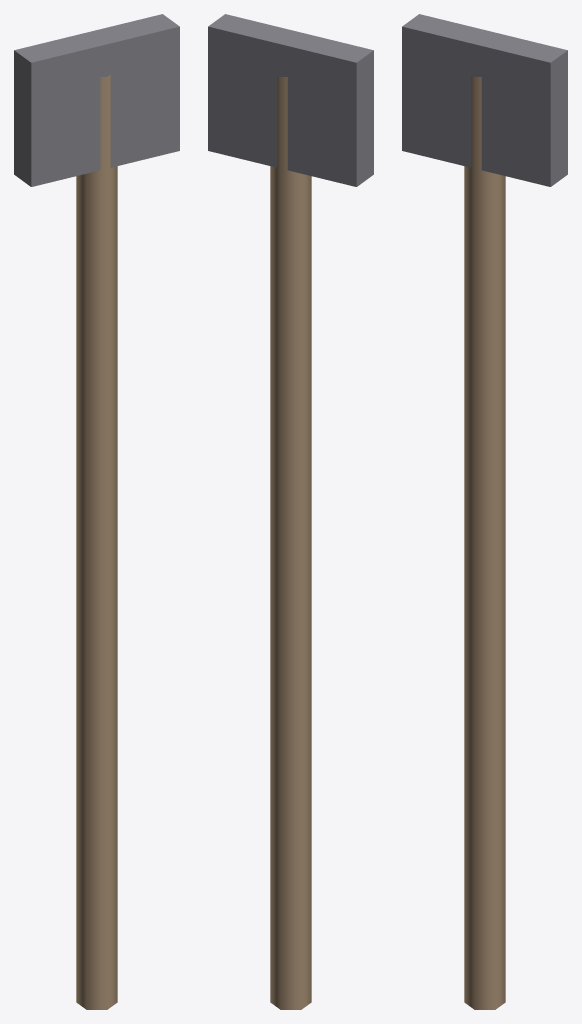
The model's file is farm_tools.glb.
3 renders of one model, left to right at view 1: azimuth 30°, elevation 25°; view 2: azimuth 150°, elevation 25°; view 3: azimuth 330°, elevation 25°, orthographic.
Visible parts, largest first — view 1: Handle_Node, Blade_Node; view 2: Handle_Node, Blade_Node; view 3: Handle_Node, Blade_Node.
Boxes of the visible parts, bbox=[...] form: Handle_Node: bbox=[76, 75, 117, 1009]; Blade_Node: bbox=[14, 14, 179, 186]; Handle_Node: bbox=[270, 75, 311, 1009]; Blade_Node: bbox=[208, 14, 373, 186]; Handle_Node: bbox=[464, 75, 505, 1009]; Blade_Node: bbox=[402, 14, 567, 186].
Size of the model in its own units: 0.25 by 1.55 by 0.06.
